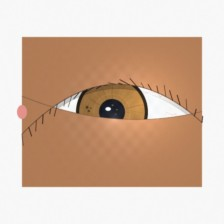pinguecula_lesion: (22, 94, 59, 123)
